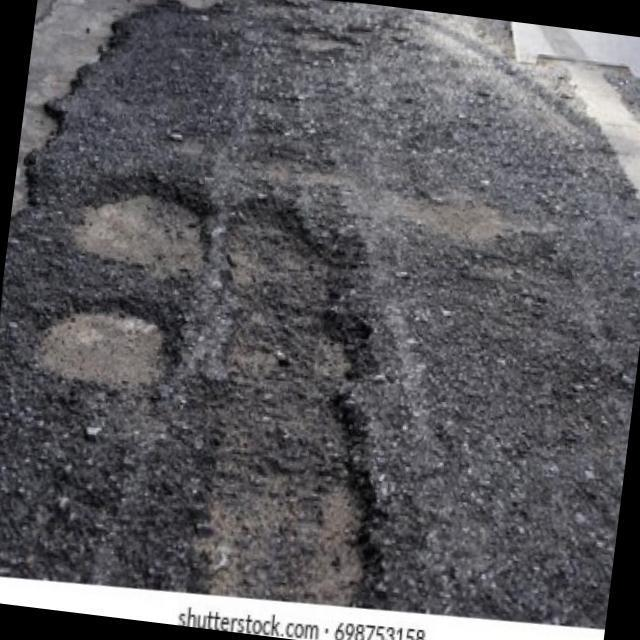Pothole: (194, 203, 378, 607), (71, 180, 208, 273), (33, 303, 180, 389)
